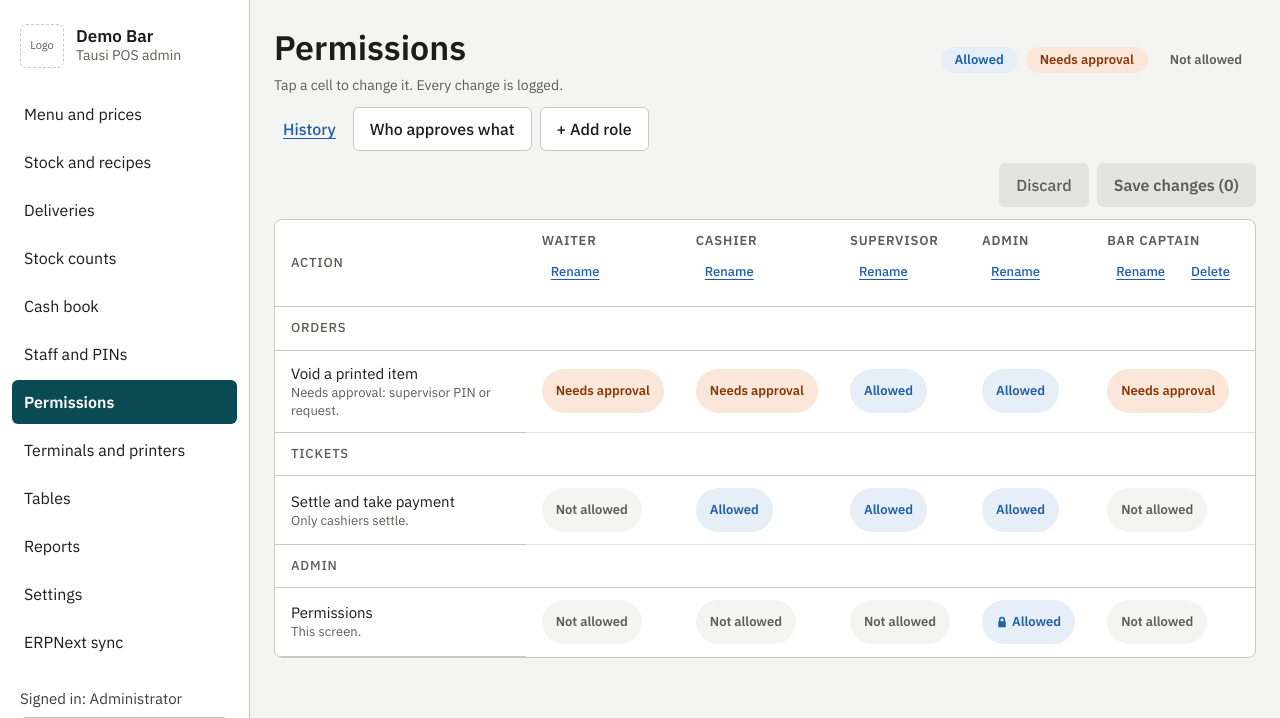
Test: Permissions › does not delete a role that people have, and says who
The image size is (1280, 718).
Expected: the table named "Permissions" is shown, [275, 220, 1255, 657]
Click the button with aria-label "Delete Bar captain".
click(1211, 272)  # box [1182, 250, 1239, 294]
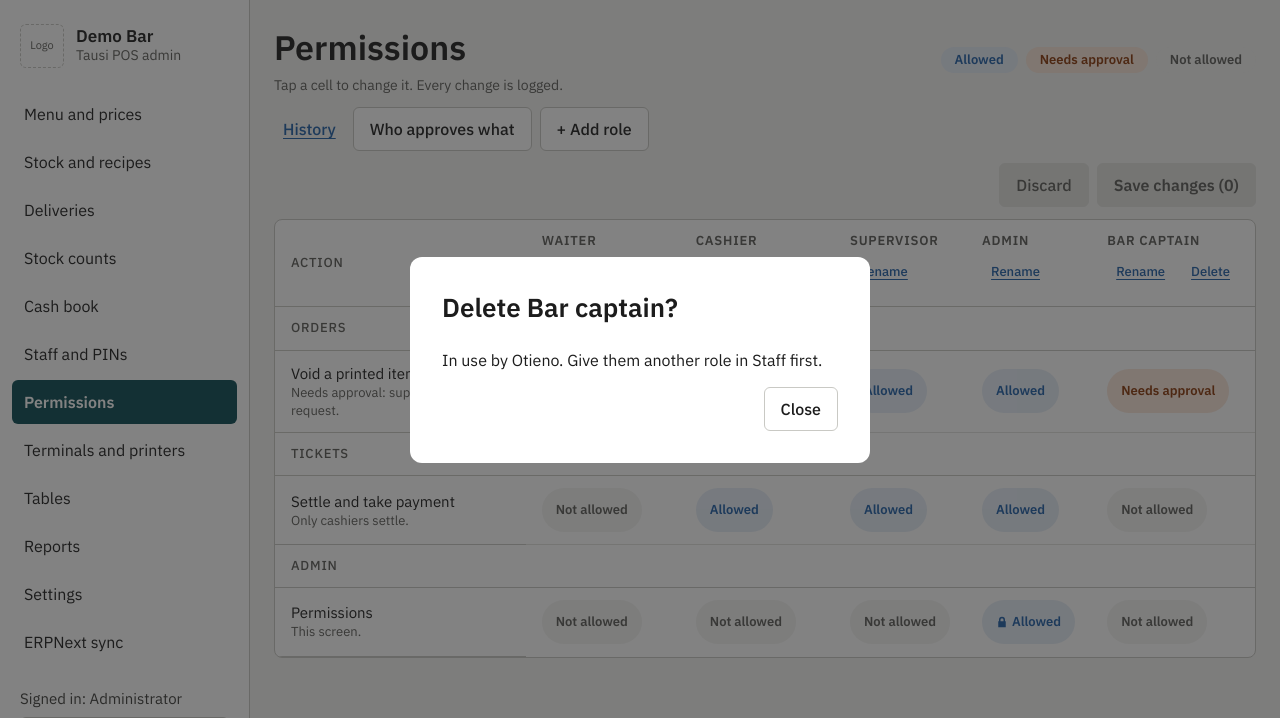
Now the text "In use by Otieno. Give them another role in Staff first." is shown, box [442, 349, 838, 371]
